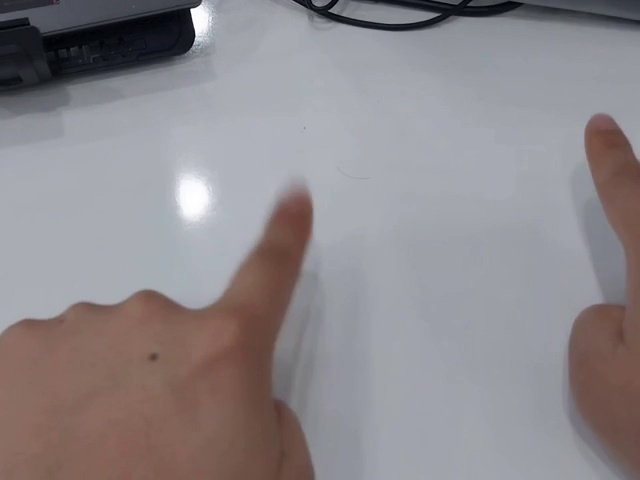fingers: (583, 112, 635, 165), (267, 188, 314, 243)
